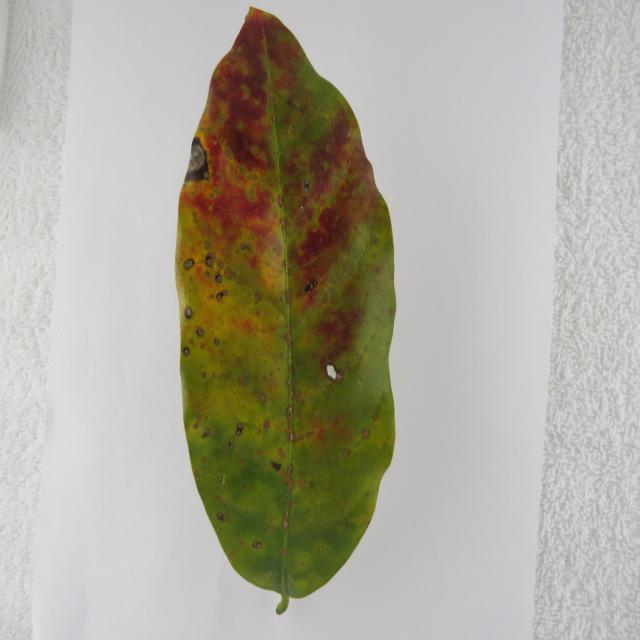DeficienciaNutricional-Fosforo: (176, 8, 395, 613)
